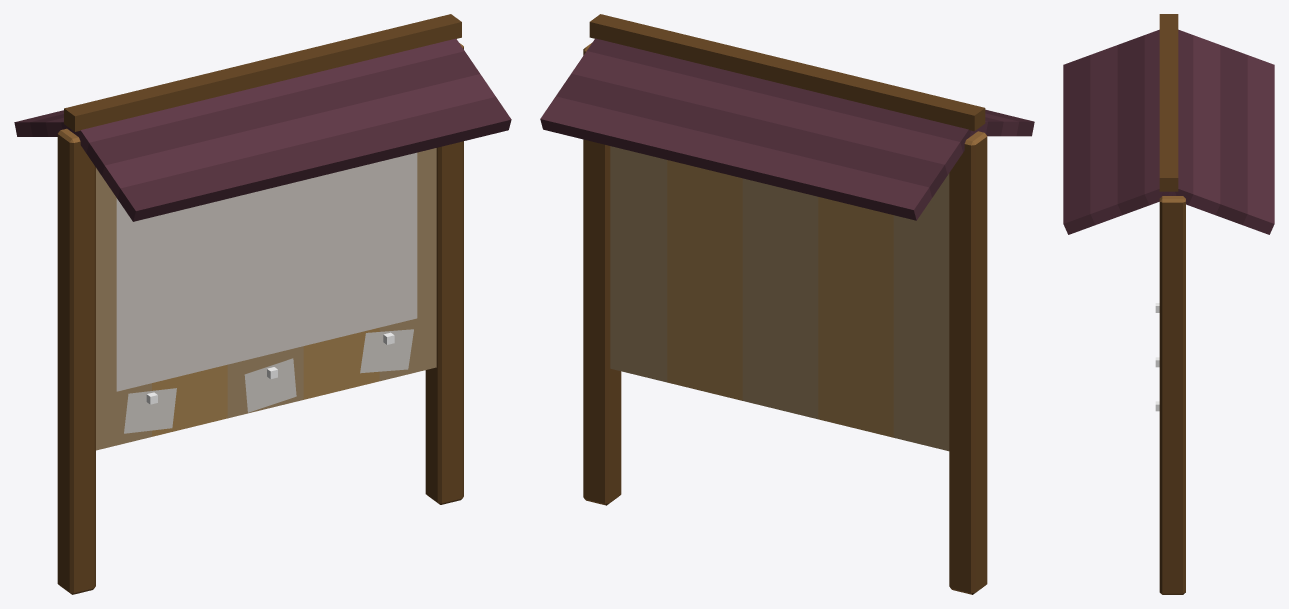
Rendered from quest_board.glb.
3 renders of one model, left to right at view 1: azimuth 30°, elevation 25°; view 2: azimuth 150°, elevation 25°; view 3: azimuth 270°, elevation 25°, orthographic. The views are drawn at different scales.
Parts seen in each view (by area): view 1: QuestBoard; view 2: QuestBoard; view 3: QuestBoard.
Boxes of the visible parts, <box> form: QuestBoard: <box>14,14,511,594</box>; QuestBoard: <box>540,14,1034,594</box>; QuestBoard: <box>1063,14,1274,594</box>.
Bounding box in the file's own units: 2.1 × 2.44 × 1.12.
